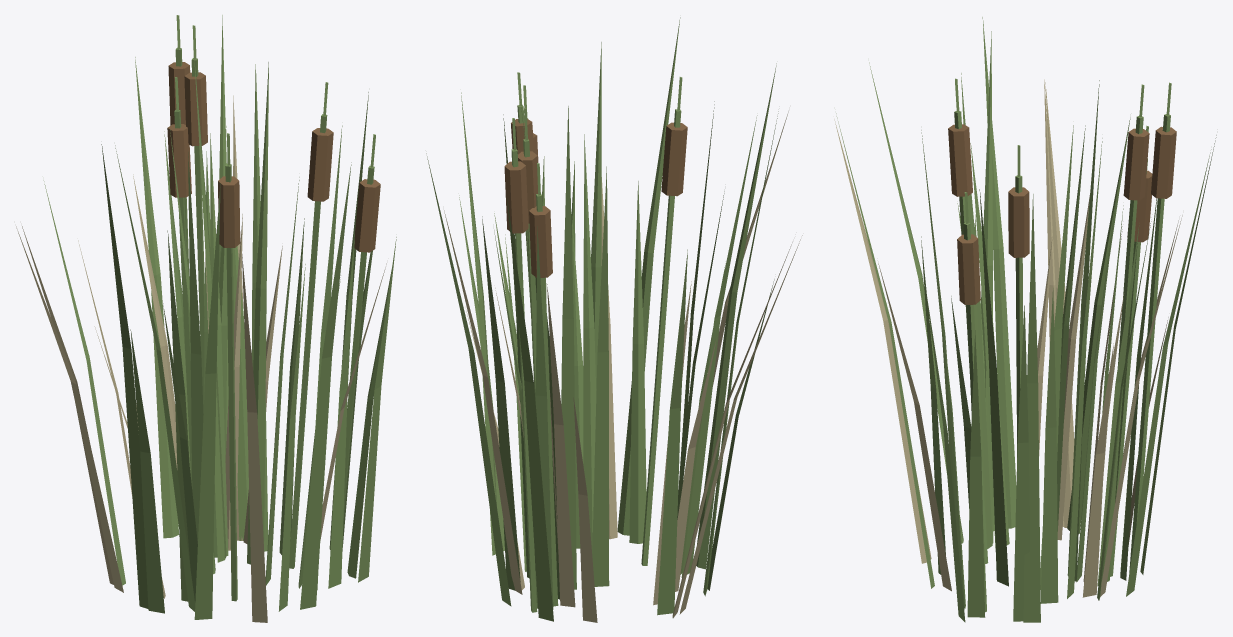
File: reeds.glb
3 renders of one model, left to right at view 1: azimuth 30°, elevation 25°; view 2: azimuth 150°, elevation 25°; view 3: azimuth 270°, elevation 25°, orthographic.
Parts seen in each view (by area): view 1: Body; view 2: Body; view 3: Body.
Boxes of the visible parts, box(x1,y1,x2,y2) form: Body: box(16, 15, 396, 622); Body: box(426, 17, 802, 622); Body: box(834, 17, 1216, 622).
Bounding box in the file's own units: 0.9165 × 1.25 × 0.8737.
